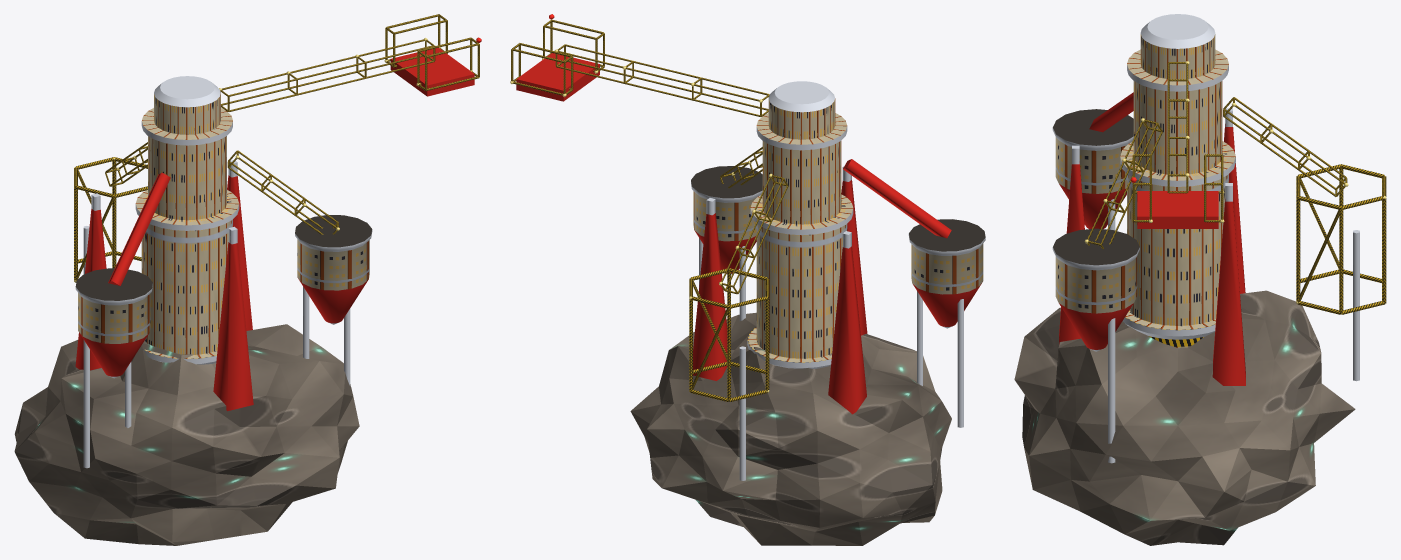
File: mining_facility_build2.obj
The picture shows the model from 3 angles, left to right: view 1: azimuth 30°, elevation 25°; view 2: azimuth 150°, elevation 25°; view 3: azimuth 270°, elevation 25°; orthographic projection. The views are drawn at different scales.
Visible parts, largest first — view 1: rock, tower, hopper, derrick, post, girder, leg, cradle, conveyor; view 2: rock, tower, hopper, derrick, post, girder, leg, cradle, conveyor, brace; view 3: rock, tower, hopper, derrick, post, girder, cradle, leg, conveyor, brace.
Boxes of the visible parts, x1,y1,x2,y2 form: rock: [14, 324, 359, 545]; tower: [135, 76, 239, 364]; hopper: [75, 214, 372, 378]; derrick: [75, 160, 253, 411]; post: [74, 39, 434, 281]; girder: [74, 14, 479, 282]; leg: [83, 226, 350, 468]; cradle: [390, 47, 474, 96]; conveyor: [108, 172, 170, 285]; rock: [630, 312, 951, 545]; tower: [747, 81, 853, 368]; hopper: [691, 166, 985, 328]; derrick: [693, 165, 867, 414]; post: [556, 44, 788, 401]; girder: [511, 19, 788, 401]; leg: [699, 238, 963, 480]; cradle: [516, 53, 599, 101]; conveyor: [843, 159, 951, 238]; brace: [691, 280, 728, 391]; rock: [1014, 290, 1355, 545]; tower: [1120, 14, 1235, 348]; hopper: [1052, 109, 1139, 351]; derrick: [1059, 108, 1245, 385]; post: [1087, 62, 1386, 313]; girder: [1087, 62, 1386, 314]; cradle: [1137, 191, 1218, 228]; leg: [1108, 199, 1359, 463]; conveyor: [1089, 92, 1133, 132]; brace: [1298, 178, 1340, 302].
Size of the model in its own units: 161 by 160 by 109.
8 materials, 3 textured.
